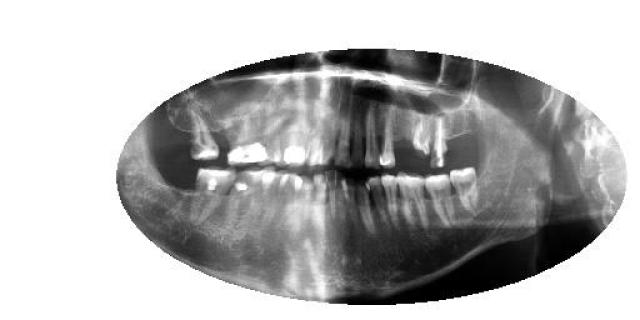Cavity: (412, 116, 430, 166)
Fillings: (226, 112, 268, 168), (282, 119, 308, 168)
